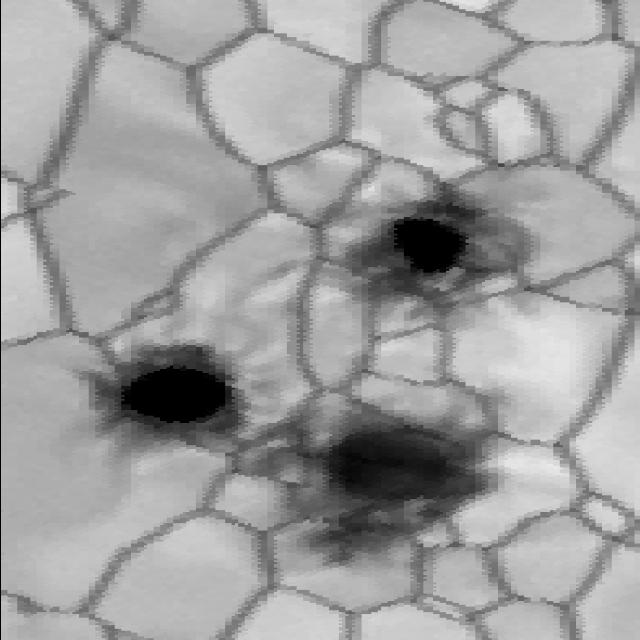good_void: (52, 328, 512, 579), (250, 192, 537, 326)
